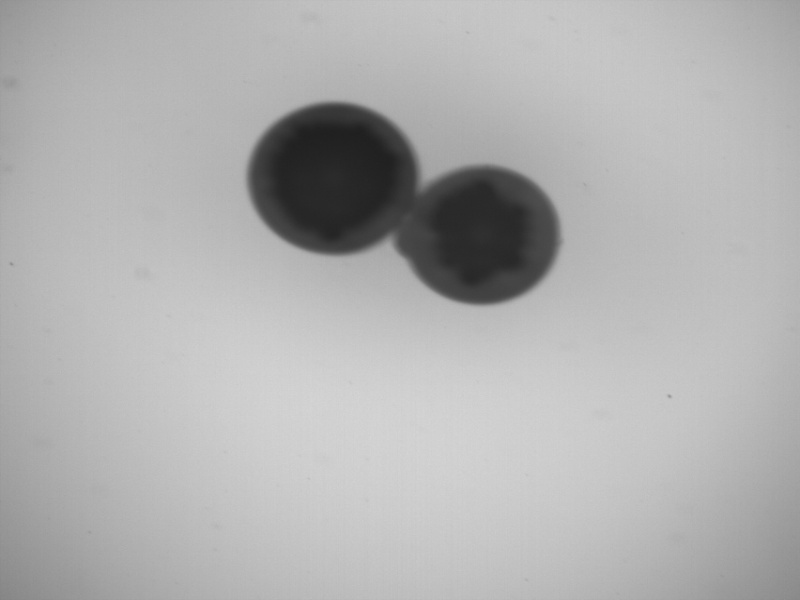bead: (243, 98, 421, 256), (396, 164, 564, 306)
